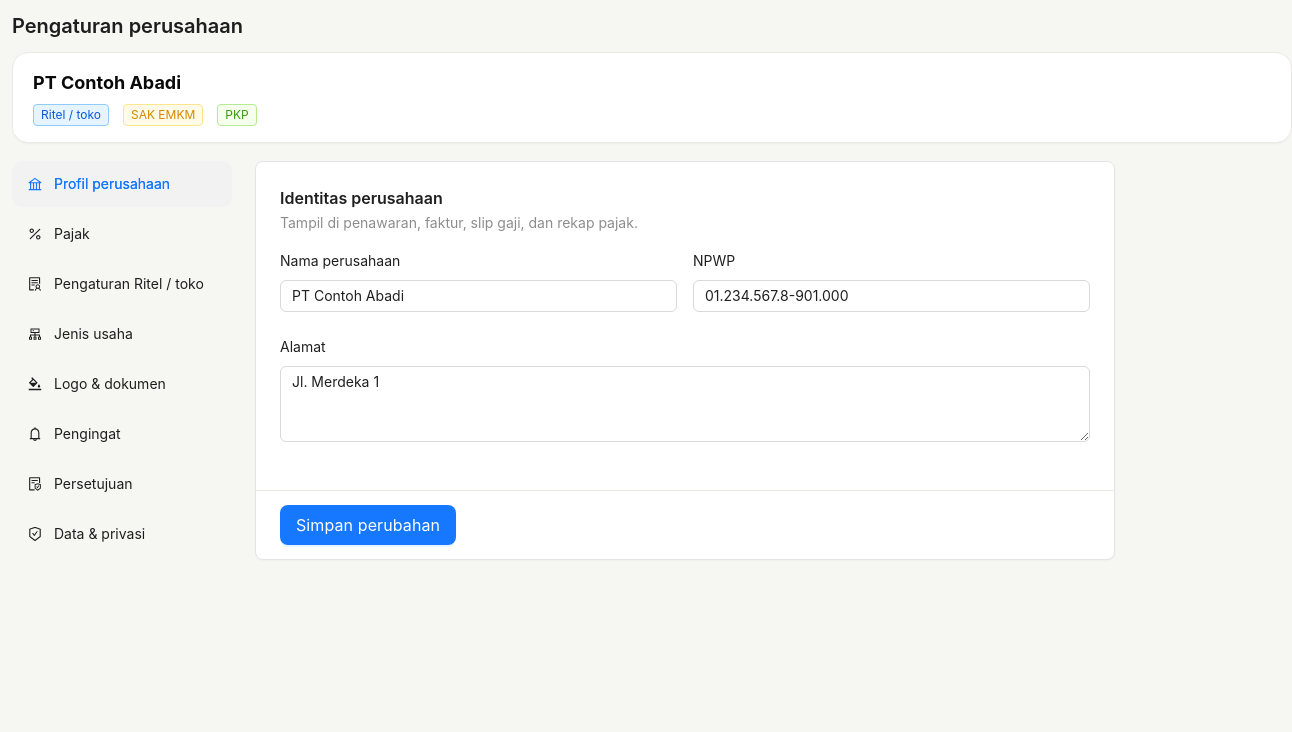
it: Pengaturan perusahaan (CompanySettingsPage) › nama perusahaan wajib diisi: tidak mengirim bila dikosongkan
This screenshot has width=1292, height=732.
Clear the field labelled "Nama perusahaan" at (478, 296), box [280,280,677,312]
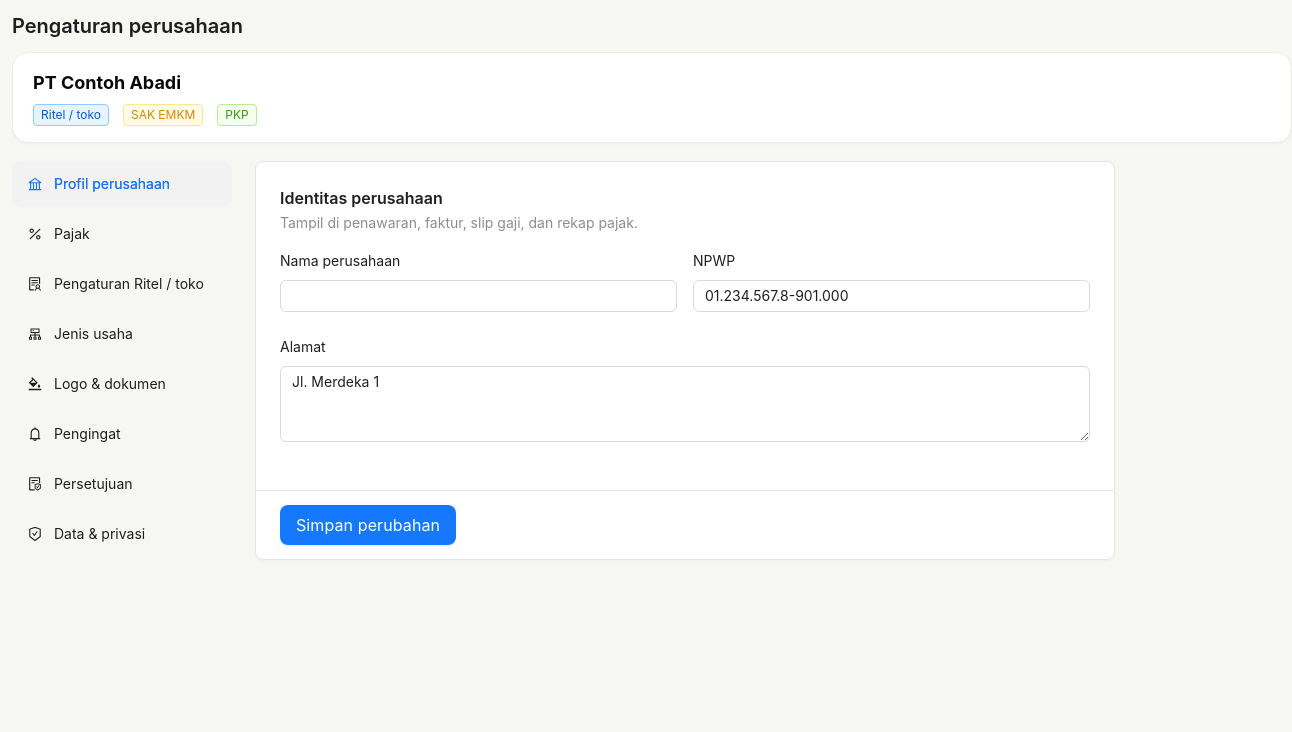
Click the button "Simpan perubahan" at (368, 525), box [280,505,456,545]
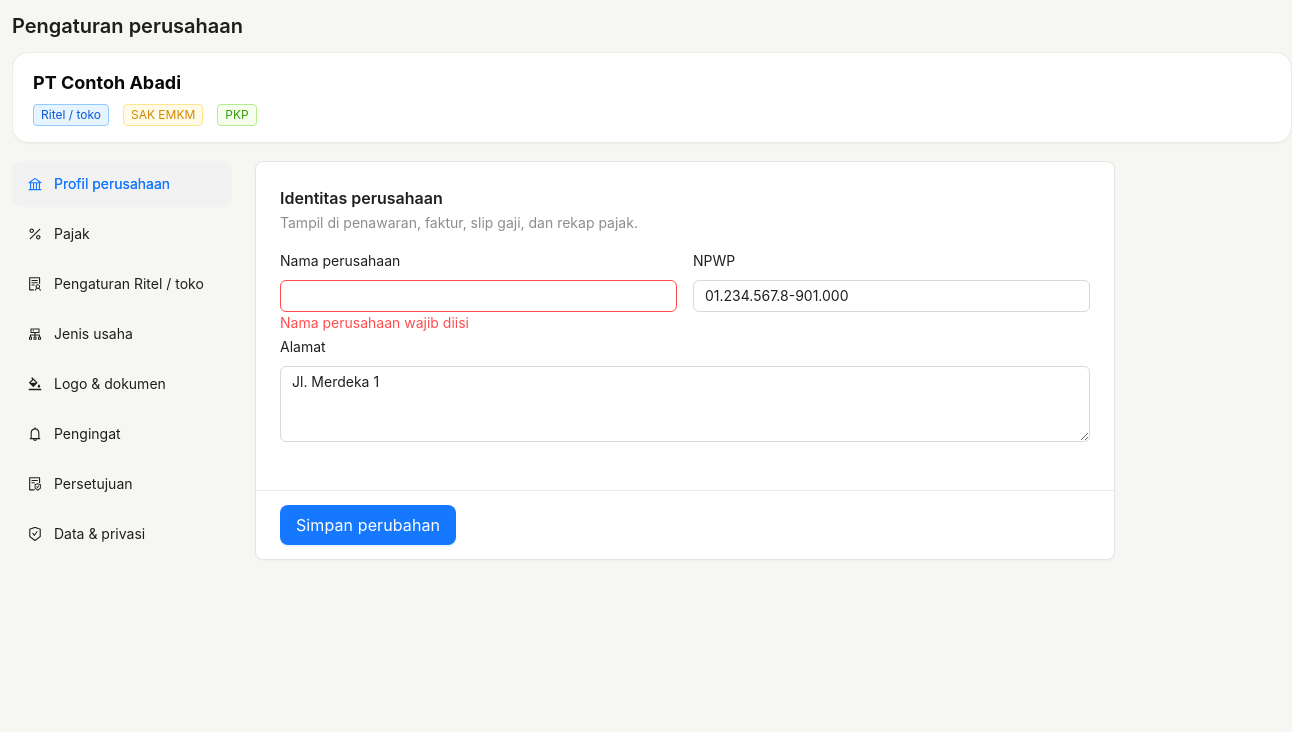
Expected: the text "Nama perusahaan wajib diisi" is shown, [280,314,469,331]
